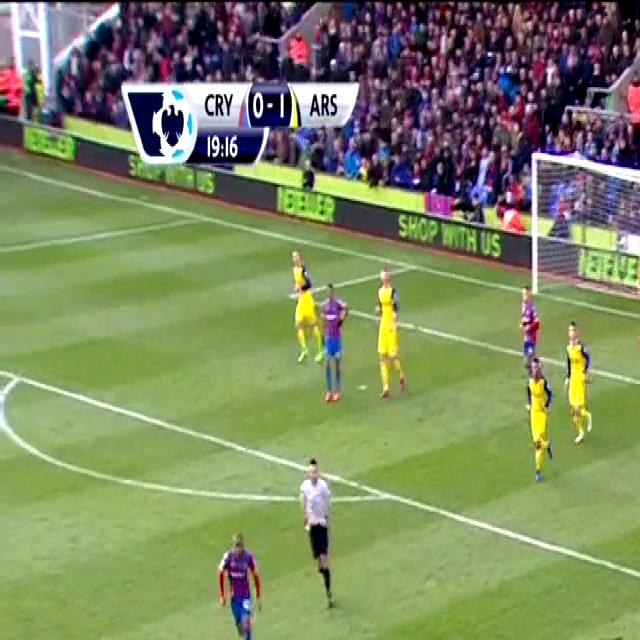goalkeeper: (626, 233, 640, 352)
referee: (295, 456, 351, 616)
soccer-player: (211, 522, 276, 640), (368, 260, 420, 406), (306, 280, 360, 414), (518, 358, 570, 487), (555, 315, 604, 451), (276, 247, 327, 370), (516, 284, 548, 378), (80, 624, 155, 640)
